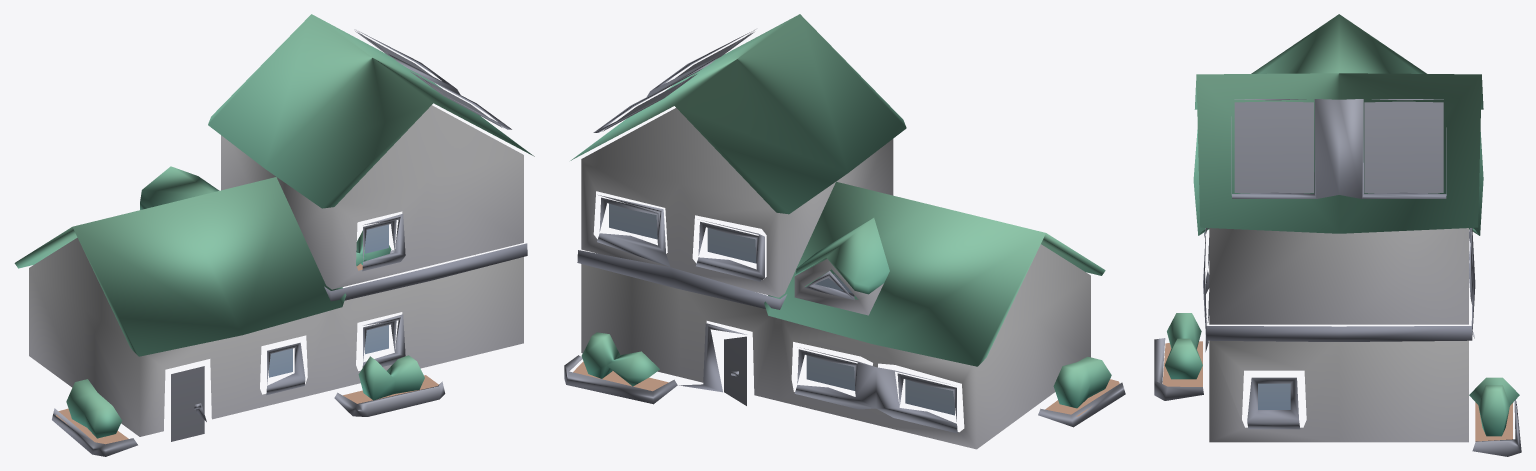
3 views of the same model, side by side, from view 1: azimuth 30°, elevation 25°; view 2: azimuth 150°, elevation 25°; view 3: azimuth 270°, elevation 25° (orthographic). The views are drawn at different scales.
Size of the model in its own units: 14.55 by 8.95 by 9.06.
